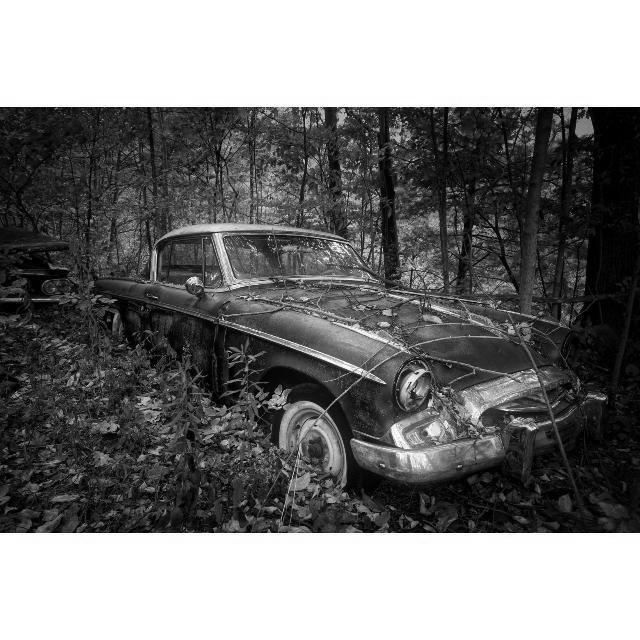bonnet-dent: (228, 282, 539, 375)
